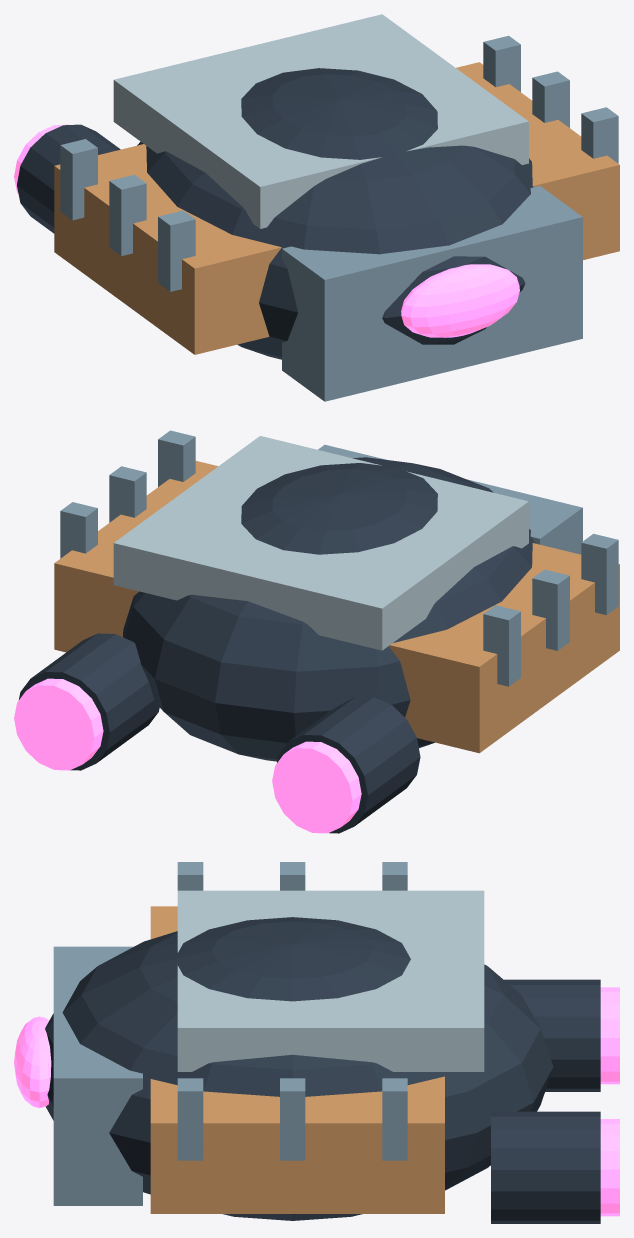
Rendered from armored_bulwark.glb.
3 renders of one model, top to bottom at view 1: azimuth 30°, elevation 25°; view 2: azimuth 150°, elevation 25°; view 3: azimuth 270°, elevation 25°, orthographic. The views are drawn at different scales.
Parts seen in each view (by area): view 1: Composite armor monocoque, Upper reactive armor, Frontal bulldozer shield, Side armoured module, Side armoured module.001, Red core front, Ionic aft nozzle, Finned heat exchanger.002, Finned heat exchanger.001, Finned heat exchanger, Finned heat exchanger.003, Finned heat exchanger.004 (+1 smaller); view 2: Composite armor monocoque, Upper reactive armor, Side armoured module, Side armoured module.001, Ionic aft nozzle, Ionic aft nozzle.001, Ion exhaust.001, Ion exhaust, Frontal bulldozer shield, Finned heat exchanger, Finned heat exchanger.001, Finned heat exchanger.002 (+3 smaller); view 3: Composite armor monocoque, Upper reactive armor, Side armoured module.001, Frontal bulldozer shield, Ionic aft nozzle.001, Ionic aft nozzle, Red core front, Finned heat exchanger.003, Finned heat exchanger.004, Finned heat exchanger.005, Ion exhaust, Ion exhaust.001 (+4 smaller).
Boxes of the visible parts, x1=… form: Composite armor monocoque: x1=137, y1=68, x2=533, y2=359; Upper reactive armor: x1=113, y1=14, x2=528, y2=228; Frontal bulldozer shield: x1=282, y1=186, x2=582, y2=401; Side armoured module: x1=54, y1=144, x2=281, y2=354; Side armoured module.001: x1=456, y1=62, x2=619, y2=259; Red core front: x1=401, y1=264, x2=519, y2=337; Ionic aft nozzle: x1=17, y1=124, x2=120, y2=233; Finned heat exchanger.002: x1=60, y1=139, x2=97, y2=220; Finned heat exchanger.001: x1=109, y1=174, x2=146, y2=255; Finned heat exchanger: x1=158, y1=210, x2=195, y2=291; Finned heat exchanger.003: x1=581, y1=107, x2=618, y2=163; Finned heat exchanger.004: x1=532, y1=71, x2=569, y2=127; Composite armor monocoque: x1=123, y1=457, x2=535, y2=761; Upper reactive armor: x1=113, y1=436, x2=528, y2=650; Side armoured module: x1=389, y1=543, x2=619, y2=753; Side armoured module.001: x1=54, y1=461, x2=218, y2=652; Ionic aft nozzle: x1=277, y1=696, x2=420, y2=833; Ionic aft nozzle.001: x1=19, y1=633, x2=159, y2=770; Ion exhaust.001: x1=14, y1=678, x2=103, y2=770; Ion exhaust: x1=272, y1=741, x2=361, y2=833; Frontal bulldozer shield: x1=318, y1=444, x2=582, y2=554; Finned heat exchanger: x1=581, y1=533, x2=618, y2=614; Finned heat exchanger.001: x1=532, y1=569, x2=569, y2=650; Finned heat exchanger.002: x1=483, y1=605, x2=520, y2=686; Composite armor monocoque: x1=45, y1=917, x2=553, y2=1220; Upper reactive armor: x1=177, y1=890, x2=484, y2=1071; Side armoured module.001: x1=150, y1=1076, x2=444, y2=1213; Frontal bulldozer shield: x1=53, y1=946, x2=142, y2=1205; Ionic aft nozzle.001: x1=491, y1=1111, x2=600, y2=1223; Ionic aft nozzle: x1=504, y1=979, x2=600, y2=1091; Red core front: x1=14, y1=1016, x2=51, y2=1108; Finned heat exchanger.003: x1=177, y1=1078, x2=203, y2=1160; Finned heat exchanger.004: x1=280, y1=1078, x2=305, y2=1160; Finned heat exchanger.005: x1=382, y1=1078, x2=407, y2=1160; Ion exhaust: x1=600, y1=987, x2=619, y2=1084; Ion exhaust.001: x1=600, y1=1119, x2=619, y2=1216.
Bounding box in the file's own units: 2.12 × 1.06 × 2.37.
